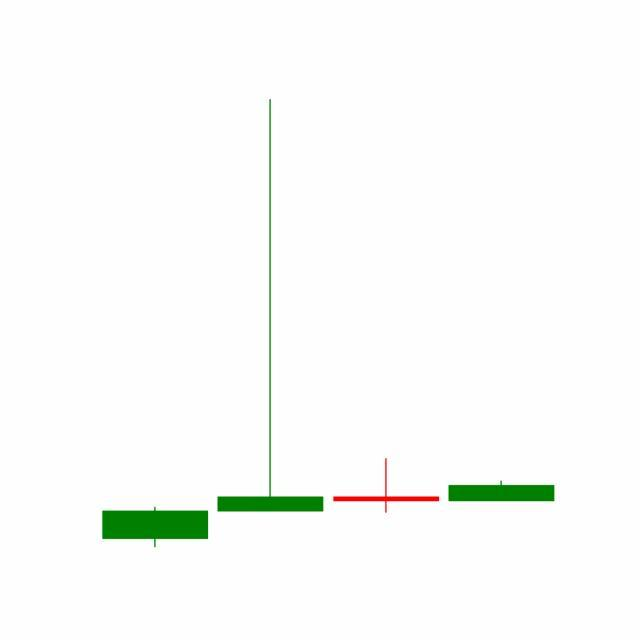Spinning Top: (329, 458, 445, 515)
